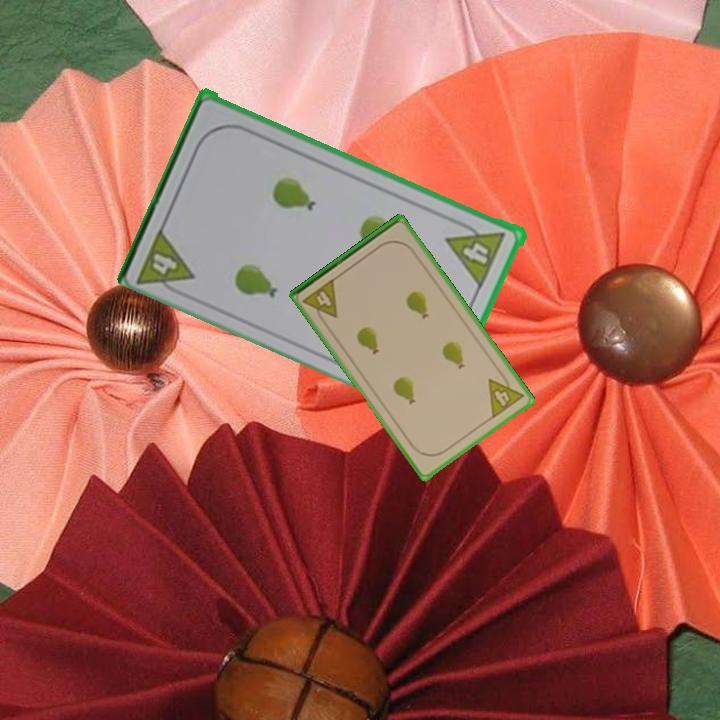4p: (133, 222, 199, 301), (443, 215, 509, 289), (485, 368, 527, 421), (299, 275, 341, 327)
